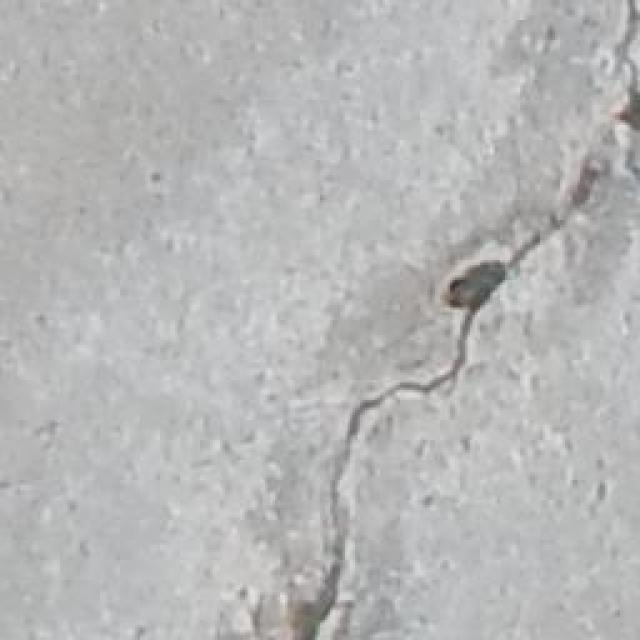concrete-crack: (256, 0, 639, 637)
